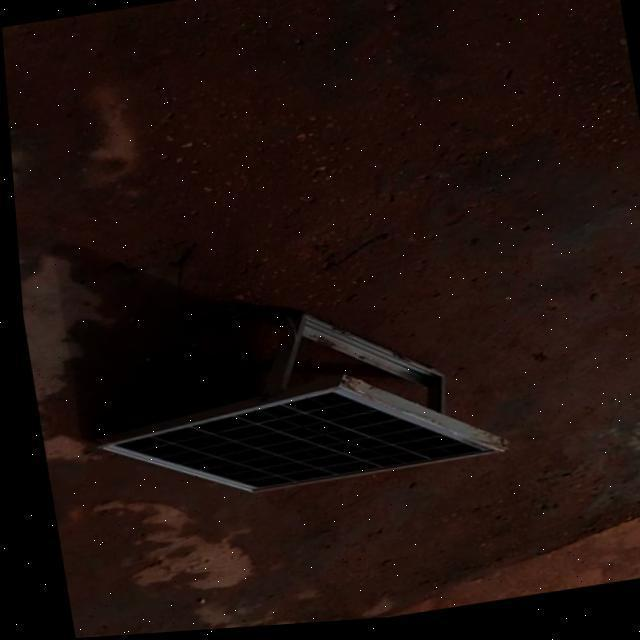Normal Solar Panel: (83, 358, 500, 514)
